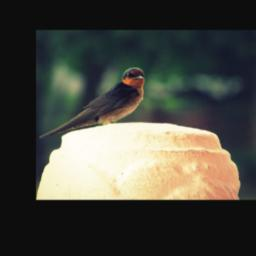Swallow: (38, 65, 146, 140)
